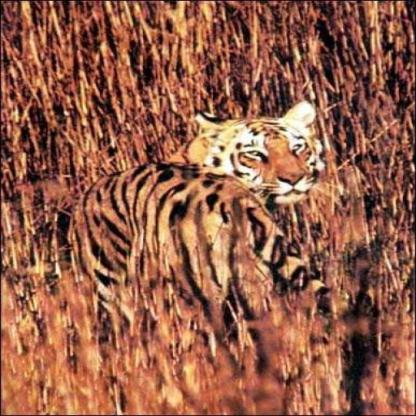Tiger: (61, 92, 330, 344)
